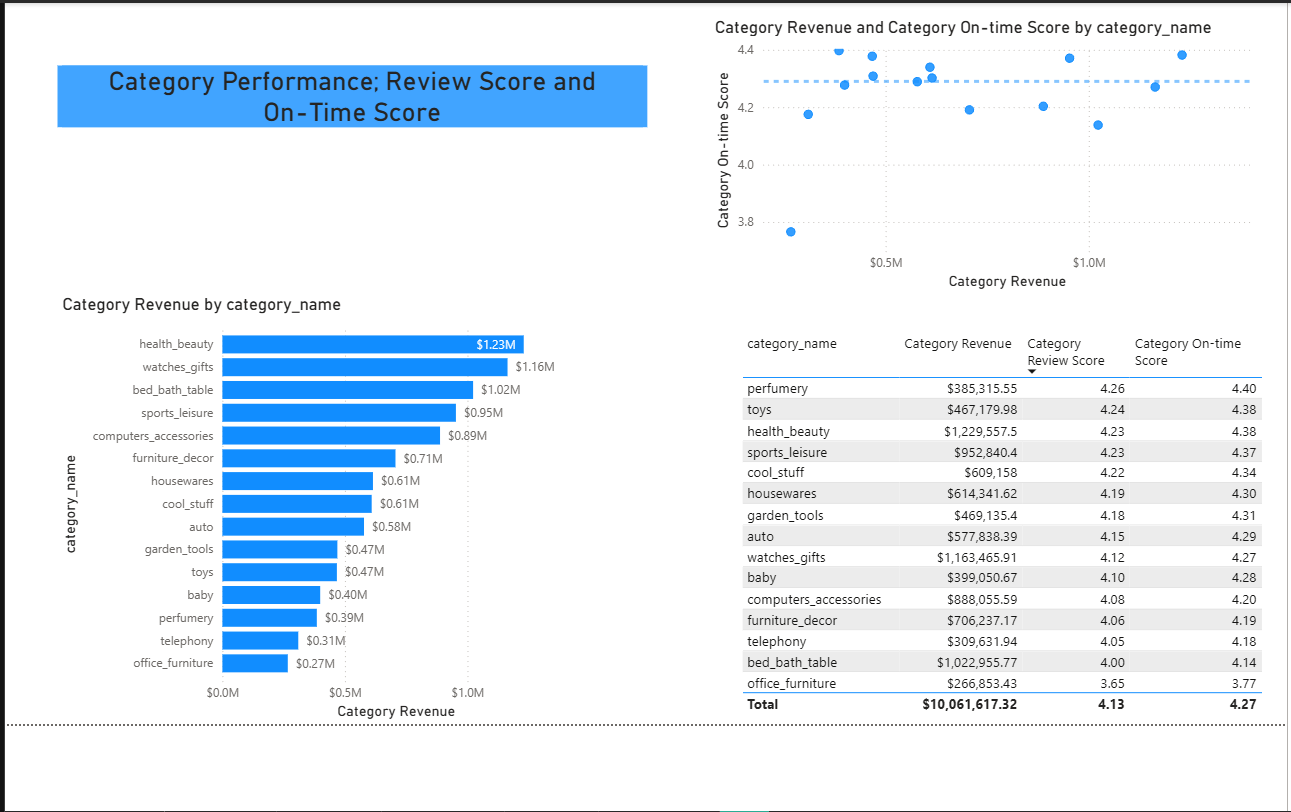

Layout of this report page (visuals, bound fields, positions):
{"tool":"powerbi","page":{"name":"Categories","canvas":[1280,720],"ordinal":2},"visuals":[{"type":"clusteredBarChart","fields":{"Category":["category_monthly.category_name"],"Y":["_Measures.Category Revenue"]},"box":[52.2,291,534.2,429.8],"z":0},{"type":"scatterChart","fields":{"X":["_Measures.Category Revenue"],"Y":["_Measures.Category On-time Score"],"Category":["category_monthly.category_name"]},"box":[704.3,13.4,562.6,277.5],"z":1},{"type":"tableEx","fields":{"Values":["category_monthly.category_name","_Measures.Category Revenue","_Measures.Category Review Score","_Measures.Category On-time Score"]},"box":[729.5,323.7,537.6,397],"z":2},{"type":"textbox","title":"Category Performance; Review Score and On-Time Score","box":[52.7,63,588.9,61.5],"z":3}]}

Visuals, with their boxes on the page's 1280x720 design canvas (x1, y1, x2, y2). These are canvas units, not pixel positions in the 1291x812 screenshot, which may show the page scaled, cropped or inside an application window:
clusteredBarChart - category_monthly.category_name x _Measures.Category Revenue: x1=52, y1=291, x2=586, y2=721
scatterChart - _Measures.Category Revenue x _Measures.Category On-time Score: x1=704, y1=13, x2=1267, y2=291
tableEx - category_monthly.category_name x _Measures.Category Revenue: x1=730, y1=324, x2=1267, y2=721
"Category Performance; Review Score and On-Time Score" textbox: x1=53, y1=63, x2=642, y2=124
